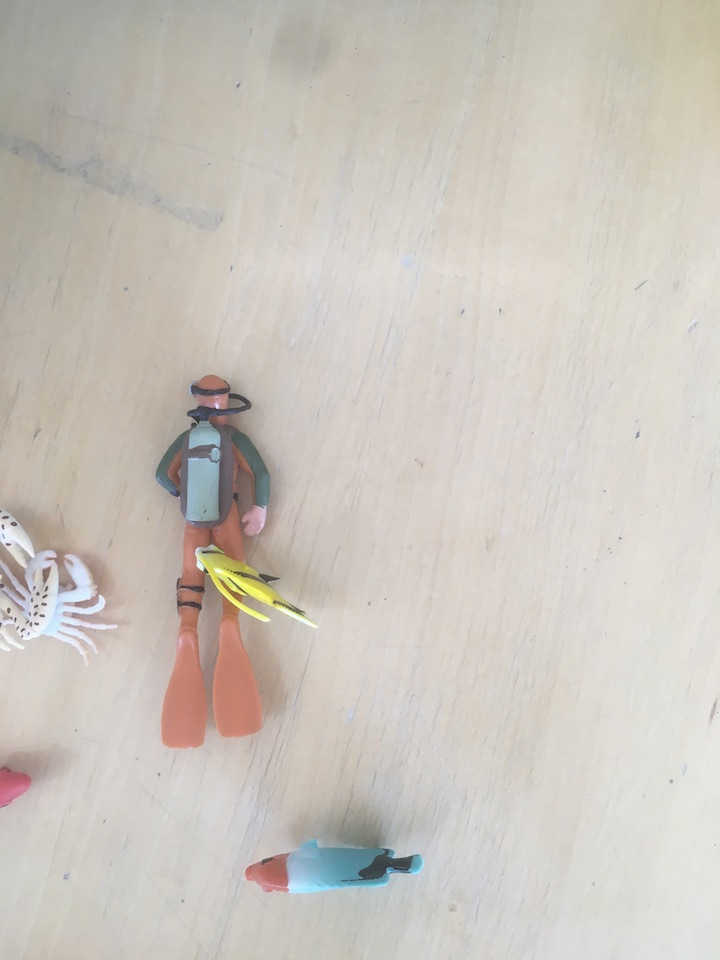crab: (1, 545, 120, 664), (1, 496, 67, 661)
danger: (189, 540, 325, 638)
diver: (150, 369, 277, 754)
fish: (239, 833, 430, 902), (1, 759, 35, 815)
